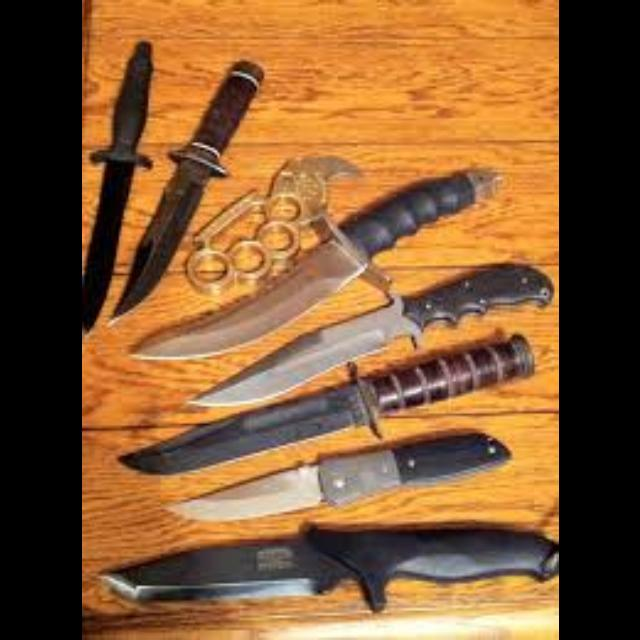Knife: (126, 165, 502, 359), (116, 330, 534, 474), (182, 262, 554, 408), (96, 520, 556, 612), (105, 57, 262, 325), (157, 428, 509, 522), (81, 40, 152, 332)
